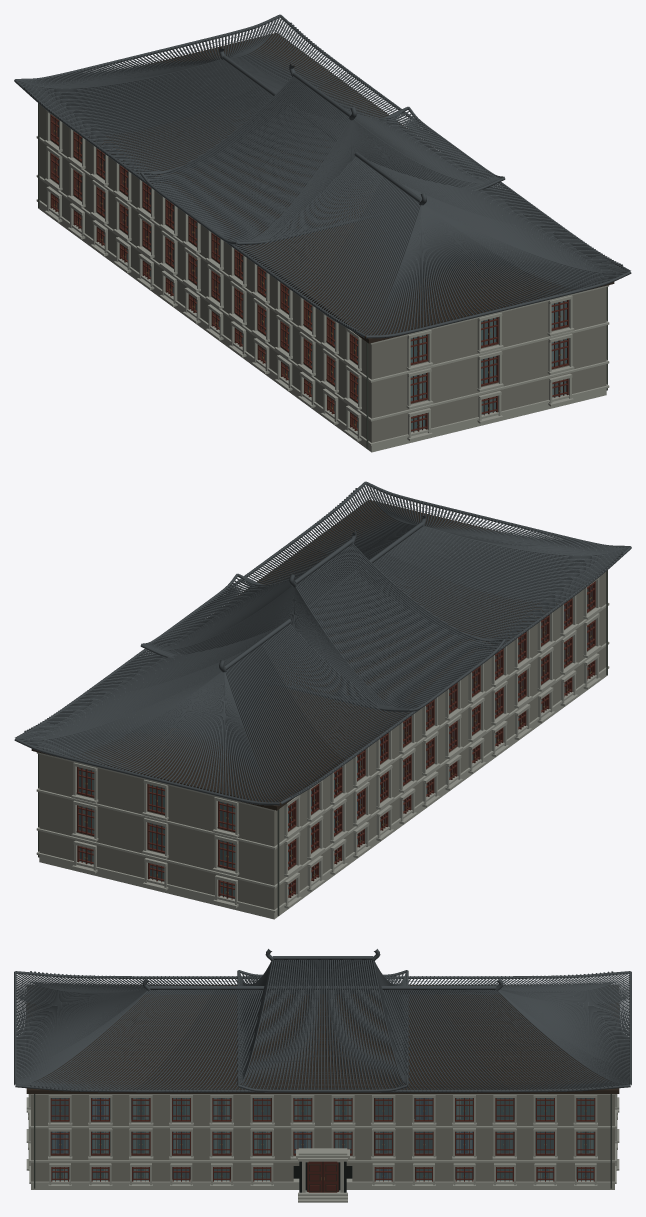
File: west.glb
The picture shows the model from 3 angles, top to bottom: view 1: azimuth 30°, elevation 25°; view 2: azimuth 150°, elevation 25°; view 3: azimuth 270°, elevation 25°; orthographic projection. The views are drawn at different scales.
Visible parts, largest first — view 1: roof-ribs, historic-brick, limestone, window-wood, redwood, window-glass-warm, roof, window-glass, drainpipe; view 2: roof-ribs, historic-brick, limestone, window-wood, redwood, window-glass-warm, roof, window-glass, drainpipe; view 3: roof-ribs, historic-brick, window-wood, limestone, redwood, window-glass-warm, roof, recess, window-glass, window-glass-cool, curtain, curtain-dark (+1 smaller).
Part boxes in pixels (bbox=[...]): roof-ribs: bbox=[14, 14, 631, 338]; historic-brick: bbox=[39, 104, 606, 442]; limestone: bbox=[36, 110, 609, 452]; window-wood: bbox=[88, 33, 614, 343]; redwood: bbox=[50, 114, 569, 432]; window-glass-warm: bbox=[53, 118, 496, 432]; roof: bbox=[54, 24, 589, 334]; window-glass: bbox=[55, 173, 566, 397]; drainpipe: bbox=[38, 103, 607, 448]; roof-ribs: bbox=[14, 481, 631, 805]; historic-brick: bbox=[39, 571, 606, 909]; limestone: bbox=[36, 577, 609, 919]; window-wood: bbox=[31, 500, 557, 810]; redwood: bbox=[76, 581, 595, 899]; window-glass-warm: bbox=[149, 619, 590, 899]; roof: bbox=[56, 491, 591, 801]; window-glass: bbox=[79, 585, 592, 895]; drainpipe: bbox=[38, 570, 607, 915]; roof-ribs: bbox=[14, 949, 631, 1092]; historic-brick: bbox=[31, 1095, 614, 1181]; window-wood: bbox=[26, 985, 619, 1191]; limestone: bbox=[26, 1094, 619, 1202]; redwood: bbox=[50, 1098, 595, 1192]; window-glass-warm: bbox=[52, 1098, 594, 1180]; roof: bbox=[22, 960, 623, 1088]; recess: bbox=[52, 1098, 593, 1192]; window-glass: bbox=[51, 1098, 593, 1180]; window-glass-cool: bbox=[51, 1098, 472, 1180]; curtain: bbox=[53, 1098, 592, 1177]; curtain-dark: bbox=[94, 1098, 592, 1177].
Bounding box in the file's own units: 24.59 × 18.11 × 53.14.
